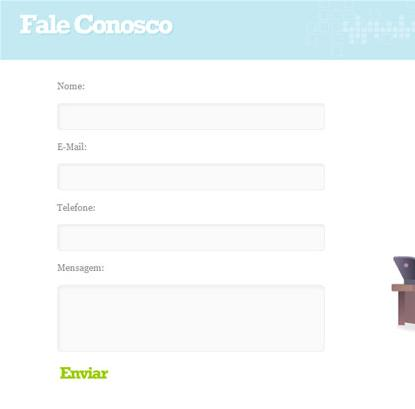field: (55, 281, 326, 353), (56, 221, 325, 252), (56, 100, 326, 130), (55, 162, 326, 191)
field_with_label: (53, 262, 329, 356), (53, 201, 327, 254), (54, 81, 328, 132), (54, 141, 328, 192)
